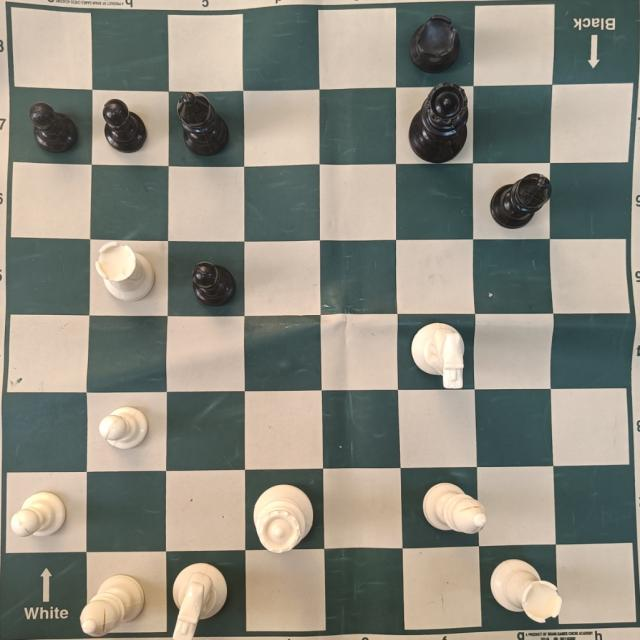black-bishop: (490, 172, 553, 230), (176, 91, 231, 156)
black-pawn: (29, 102, 79, 152), (104, 99, 149, 154), (192, 262, 236, 306)
black-queen: (407, 81, 470, 163)
black-rook: (408, 12, 464, 73)
board: (1, 0, 640, 640)
white-bishop: (80, 571, 147, 637), (423, 482, 487, 539)
white-knight: (171, 561, 228, 640), (411, 321, 467, 389)
white-pawn: (12, 490, 67, 540), (99, 406, 149, 450)
white-queen: (254, 485, 315, 554)
white-rook: (491, 558, 564, 626), (95, 239, 156, 308)
